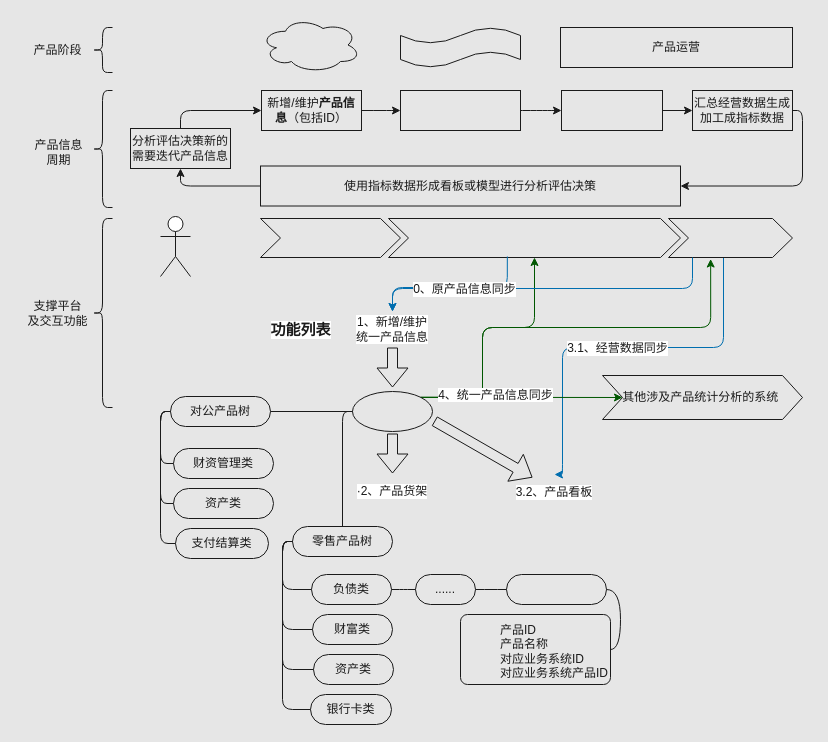
This 828x742 diagram has some shape labels left out. The box of each missing label's shape, as (x1, y1, x2, y2) in pixels:
业务系统: (388, 218, 680, 258)
产品树: (352, 390, 432, 432)
产品研发: (400, 26, 520, 68)
产品管理平台: (260, 218, 400, 258)
产品设计: (260, 16, 360, 72)
使用产品信息生成 产品表单: (400, 90, 520, 130)
使用表单生成 经营数据: (560, 90, 662, 130)
数据平台: (668, 218, 792, 258)
现金宝A款: (506, 574, 606, 604)
